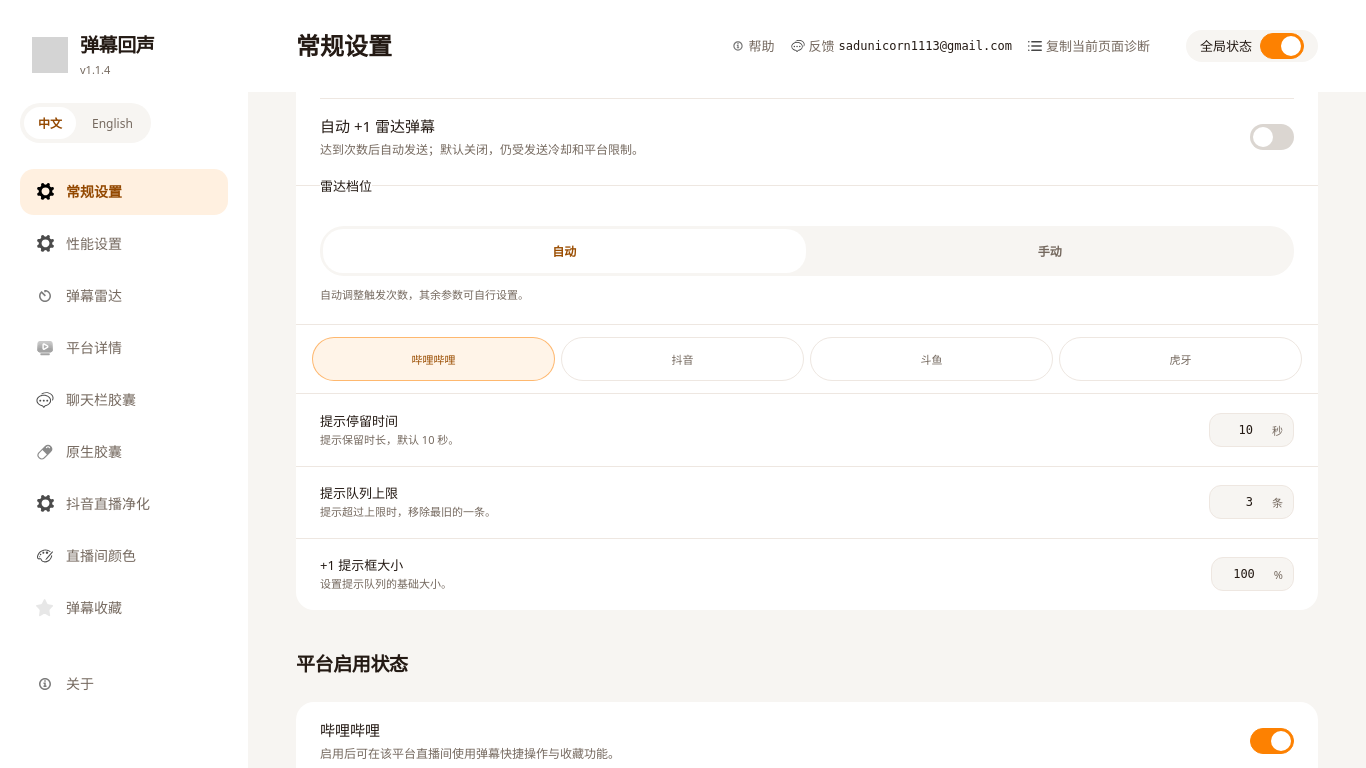
Scenario: settings size mode and radar threshold independence › keeps general radar inputs editable in auto mode and preserves them across switches
(page scrolled)
Replace the text in the number field with id "repeat-reminder-prompt-duration-bilibili" with "21" at (1241, 430), box [1210, 414, 1272, 446]
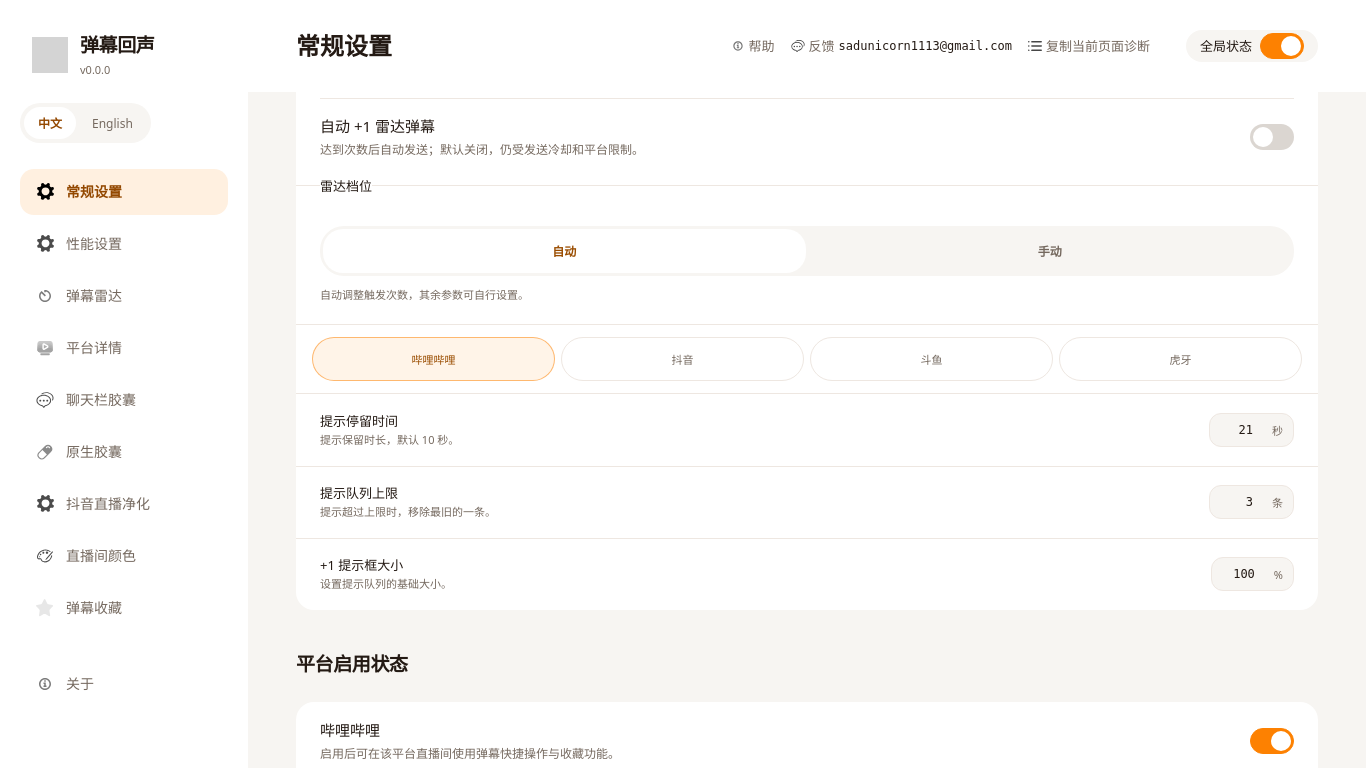
Replace the text in the number field with id "repeat-reminder-queue-limit-bilibili" with "7" at (1241, 502), box [1210, 486, 1272, 518]
Replace the text in the number field with id "repeat-reminder-prompt-scale-bilibili" with "125" at (1243, 574), box [1212, 558, 1274, 590]
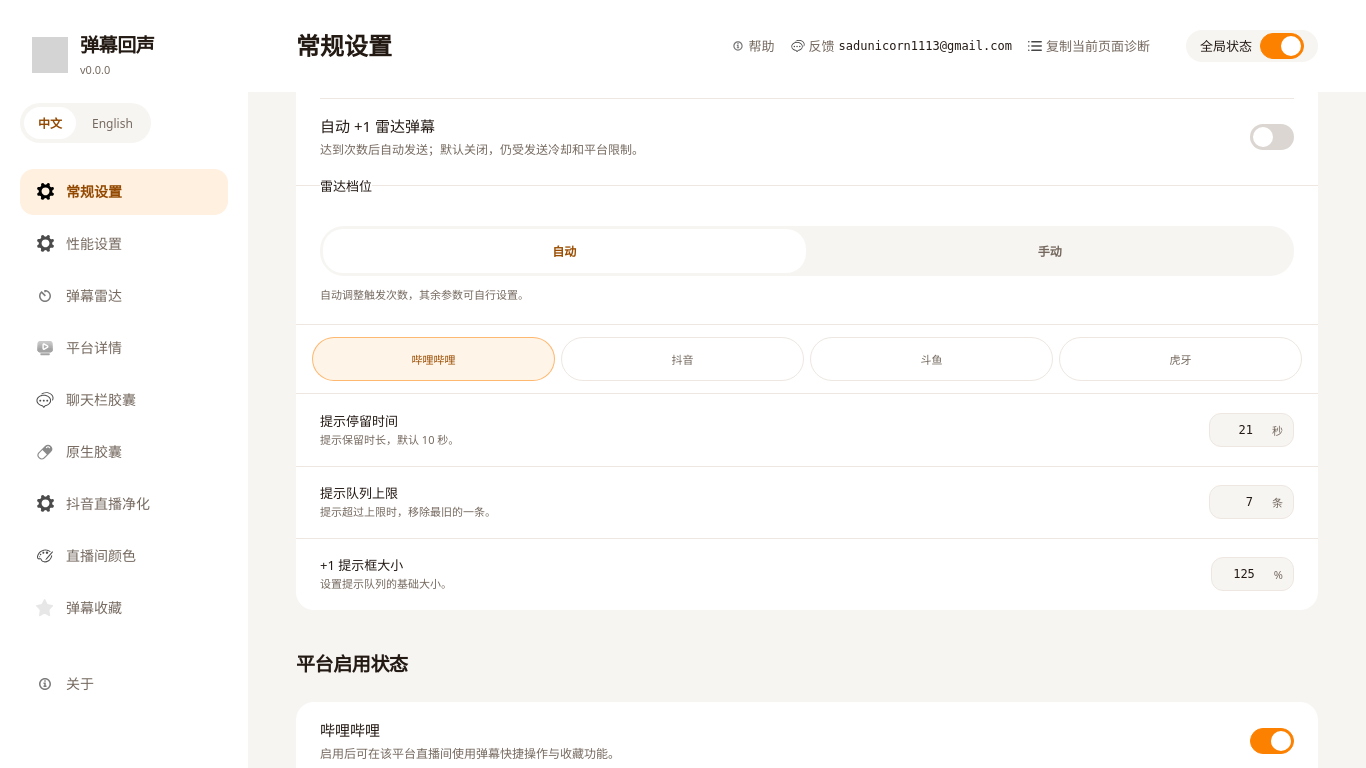
Click the radio button named "repeat-reminder-mode" at (1050, 251), box [1038, 243, 1062, 260]
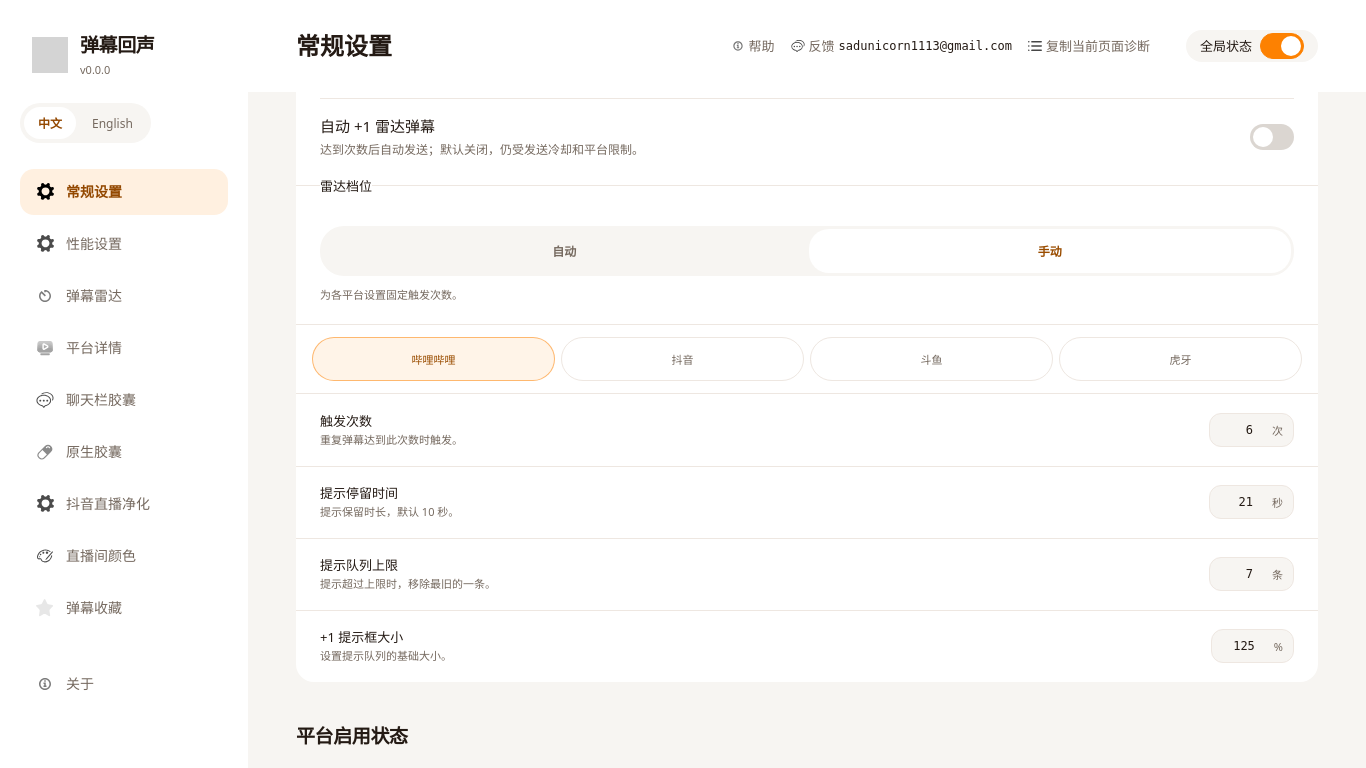
Now the number field with id "repeat-reminder-threshold-bilibili" is shown, box [1210, 414, 1272, 446]
Click the radio button named "repeat-reminder-mode" at (564, 251), box [552, 243, 576, 260]
(page scrolled)
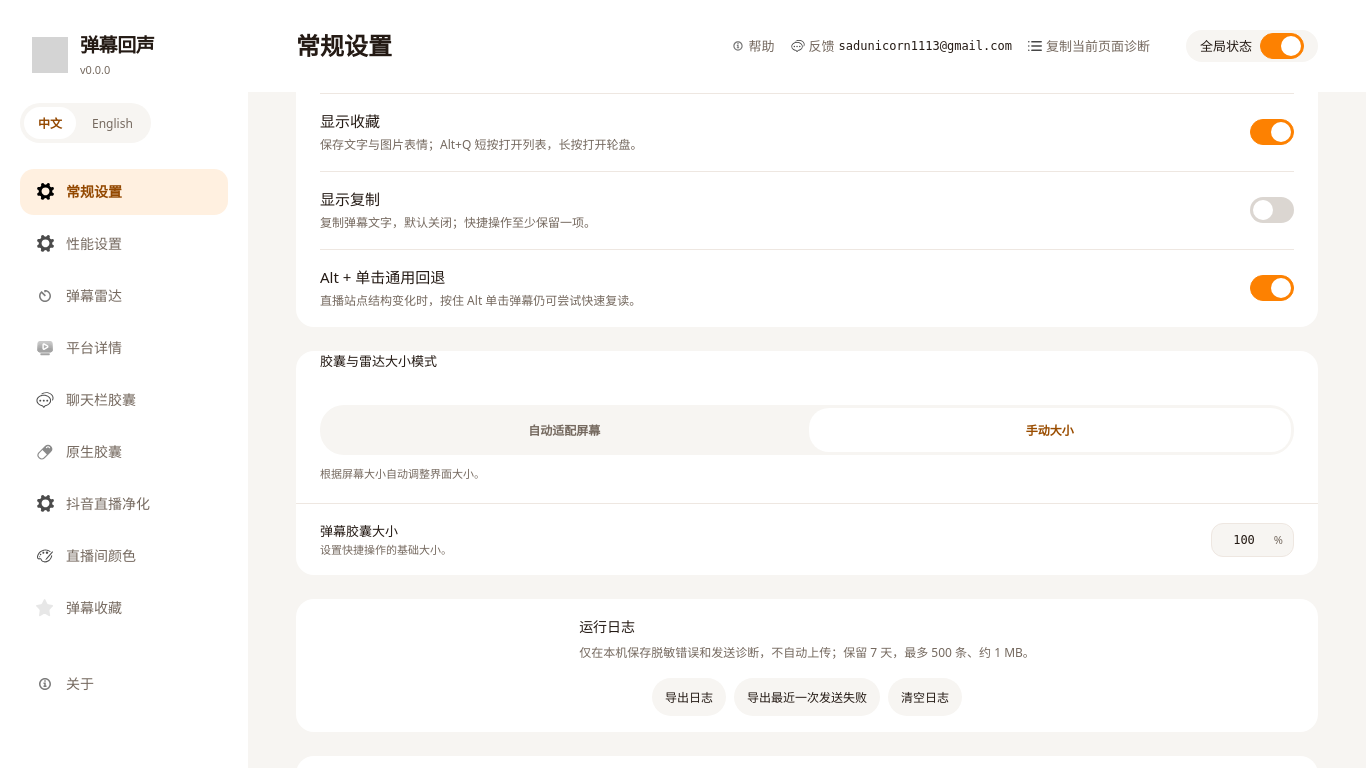
Click the radio button named "interface-scale-mode" at (564, 430), box [528, 422, 600, 439]
(page scrolled)
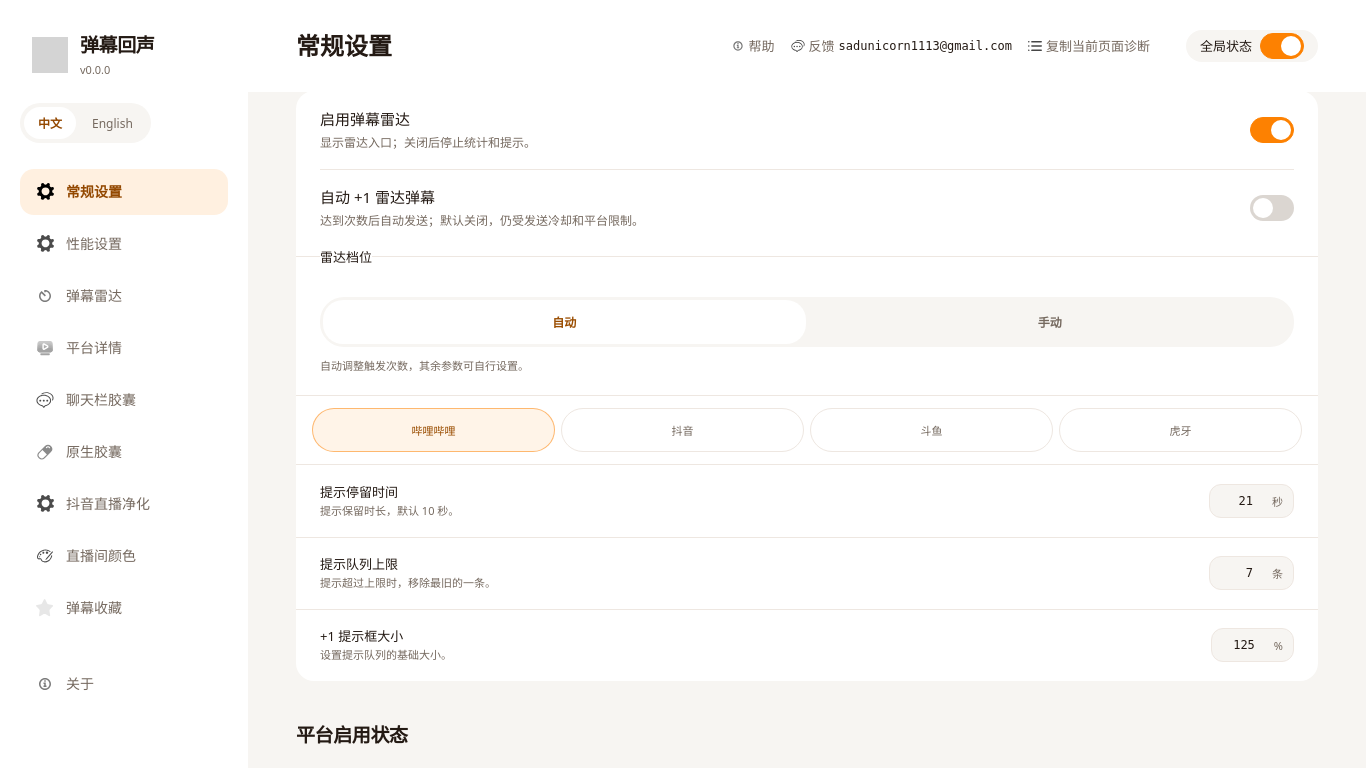
Now the radio button named "repeat-reminder-mode" is checked, box [323, 300, 806, 344]
Now the number field with id "repeat-reminder-prompt-scale-bilibili" is enabled, box [1212, 629, 1274, 661]
Click the tab with id "repeat-reminder-tab-douyin" at (682, 430), box [561, 408, 804, 452]
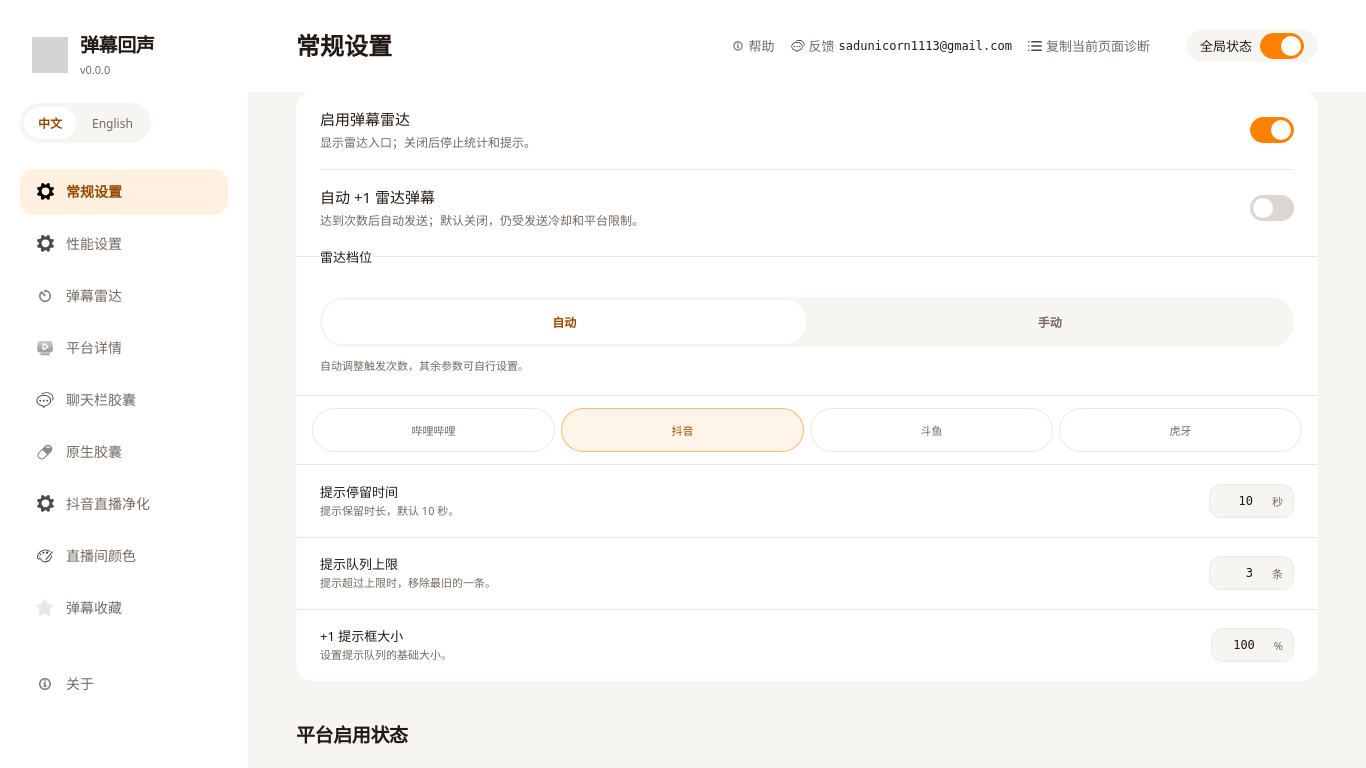
Now the number field with id "repeat-reminder-prompt-duration-douyin" holds "10", box [1210, 485, 1272, 517]
